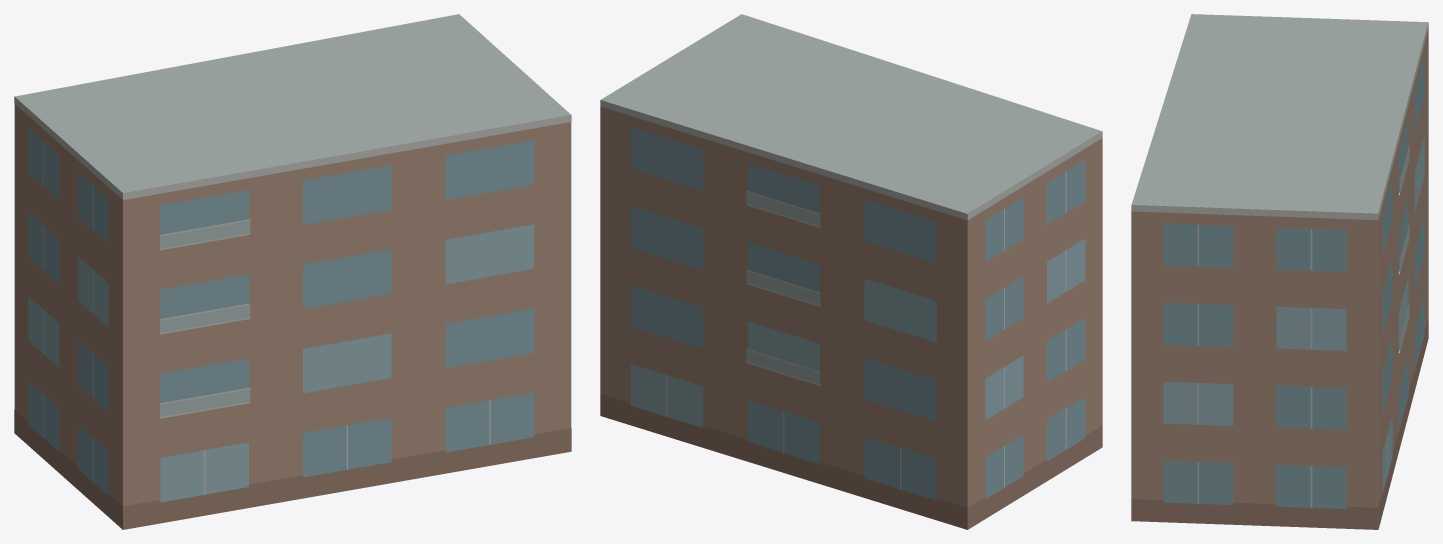
File: survey-upis-32980049.glb
The picture shows the model from 3 angles, left to right: view 1: azimuth 30°, elevation 25°; view 2: azimuth 150°, elevation 25°; view 3: azimuth 270°, elevation 25°; orthographic projection. The views are drawn at different scales.
Visible parts, largest first — view 1: survey-upis-32980049.tmp; view 2: survey-upis-32980049.tmp; view 3: survey-upis-32980049.tmp.
Boxes of the visible parts, <box> form: survey-upis-32980049.tmp: <box>14,14,571,529</box>; survey-upis-32980049.tmp: <box>600,14,1102,529</box>; survey-upis-32980049.tmp: <box>1131,14,1428,529</box>.
Size of the model in its own units: 15.99 by 11.8 by 10.06.
